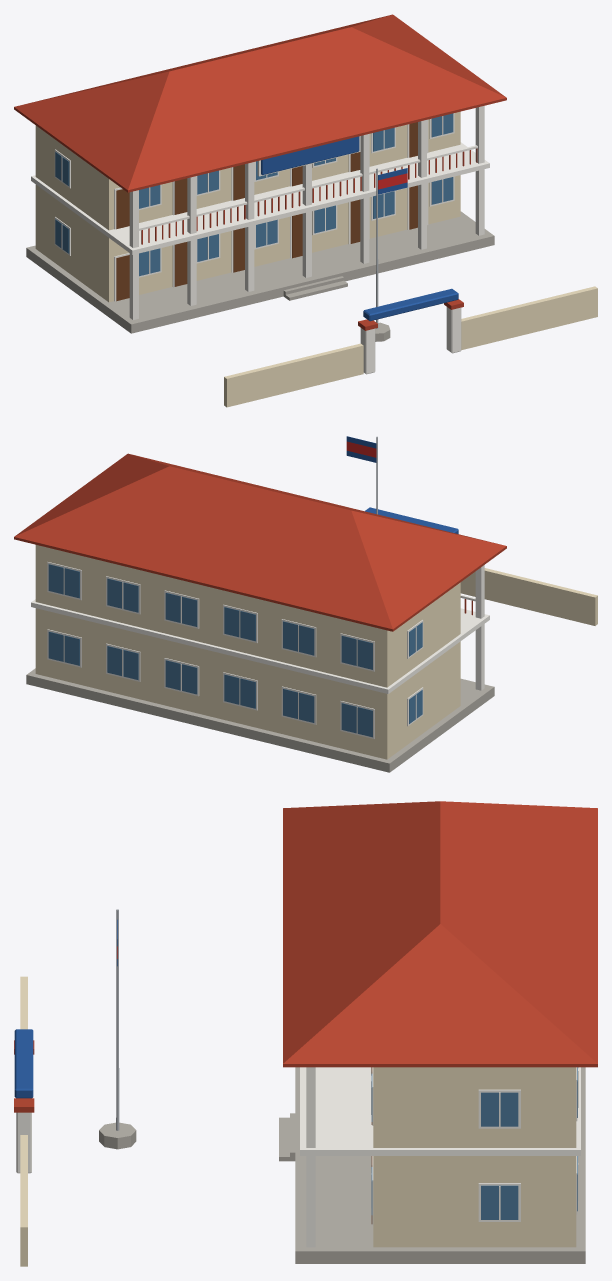
File: BLD_School.fbx
3 views of the same model, one above another, from view 1: azimuth 30°, elevation 25°; view 2: azimuth 150°, elevation 25°; view 3: azimuth 270°, elevation 25° (orthographic). The views are drawn at different scales.
Visible parts, largest first — view 1: BLD_School; view 2: BLD_School; view 3: BLD_School.
Boxes of the visible parts, x1,y1,x2,y2 form: BLD_School: [14, 14, 597, 407]; BLD_School: [14, 436, 597, 772]; BLD_School: [14, 801, 597, 1266].
Size of the model in its own units: 19.4 by 9.87 by 18.72.
